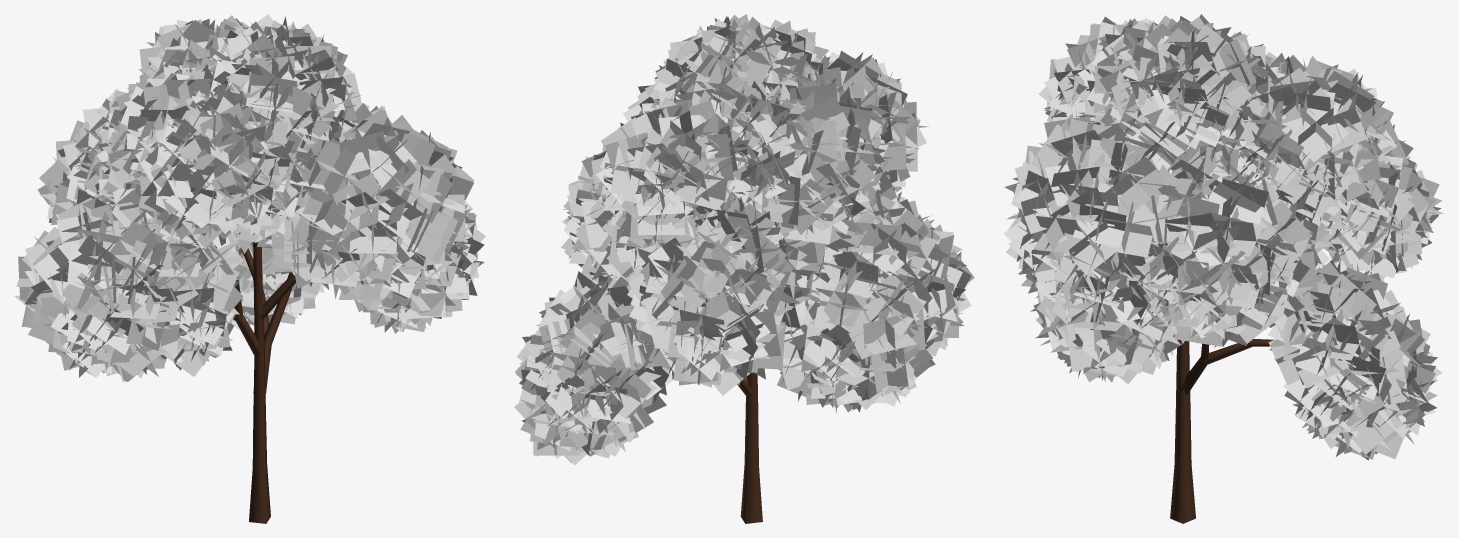
The model's file is Tree2Lod0.fbx.
3 views of the same model, side by side, from view 1: azimuth 30°, elevation 25°; view 2: azimuth 150°, elevation 25°; view 3: azimuth 270°, elevation 25° (orthographic).
Parts seen in each view (by area): view 1: Leaf.001, tree; view 2: Leaf.001, tree; view 3: Leaf.001, tree.
Part boxes in pixels (<box>): Leaf.001: <box>14,14,485,382</box>; tree: <box>233,242,295,523</box>; Leaf.001: <box>514,14,974,465</box>; tree: <box>737,372,762,523</box>; Leaf.001: <box>1003,14,1443,460</box>; tree: <box>1170,339,1273,523</box>.
Bounding box in the file's own units: 944 × 1120 × 892.
